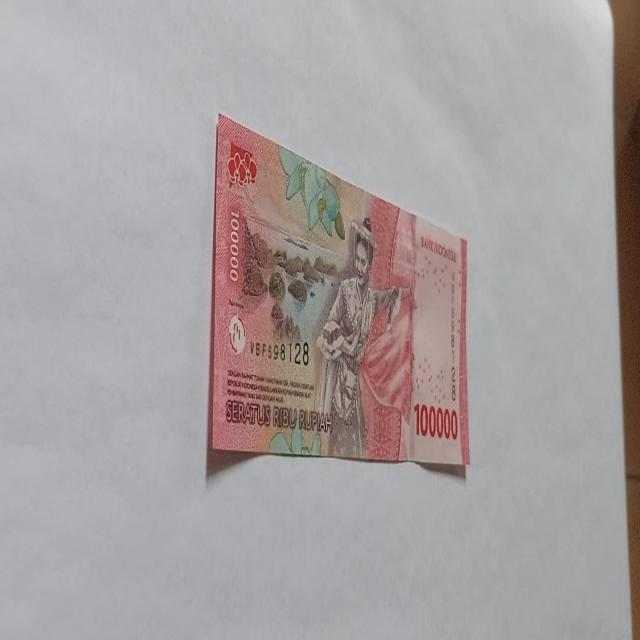seratus ribu rupiah: (207, 112, 470, 470), (312, 216, 410, 459)
